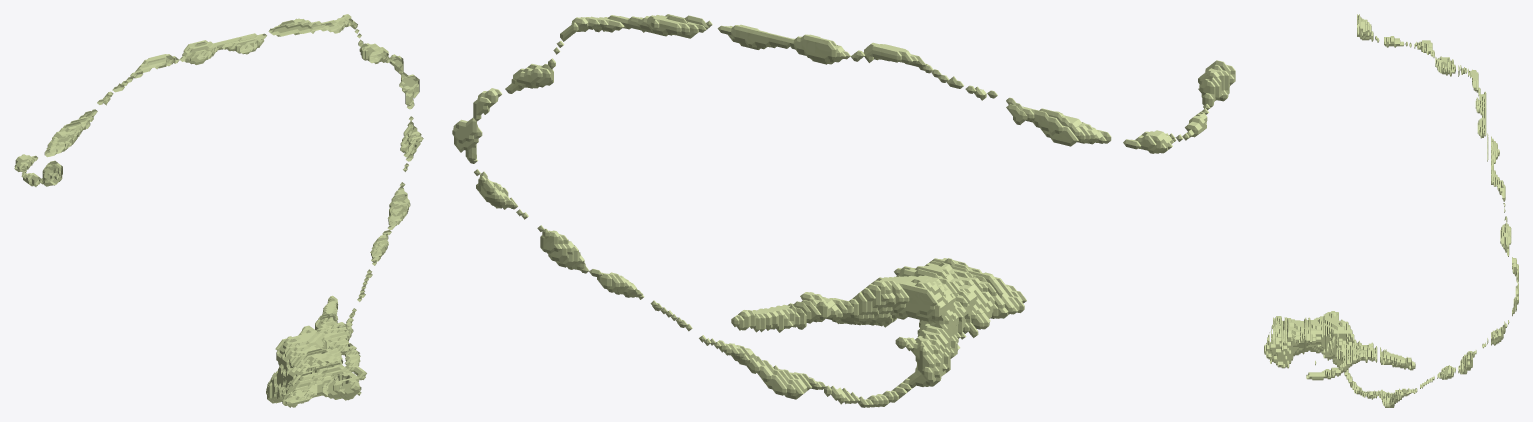
Rendered from SVV_RIVL.gltf.
3 renders of one model, left to right at view 1: azimuth 30°, elevation 25°; view 2: azimuth 150°, elevation 25°; view 3: azimuth 270°, elevation 25°, orthographic. The views are drawn at different scales.
Parts seen in each view (by area): view 1: RIVL; view 2: RIVL; view 3: RIVL.
Boxes of the visible parts, bbox=[...] form: RIVL: bbox=[14, 14, 423, 407]; RIVL: bbox=[452, 14, 1235, 407]; RIVL: bbox=[1264, 14, 1518, 407].
Bounding box in the file's own units: 96818 × 63520 × 51223.
